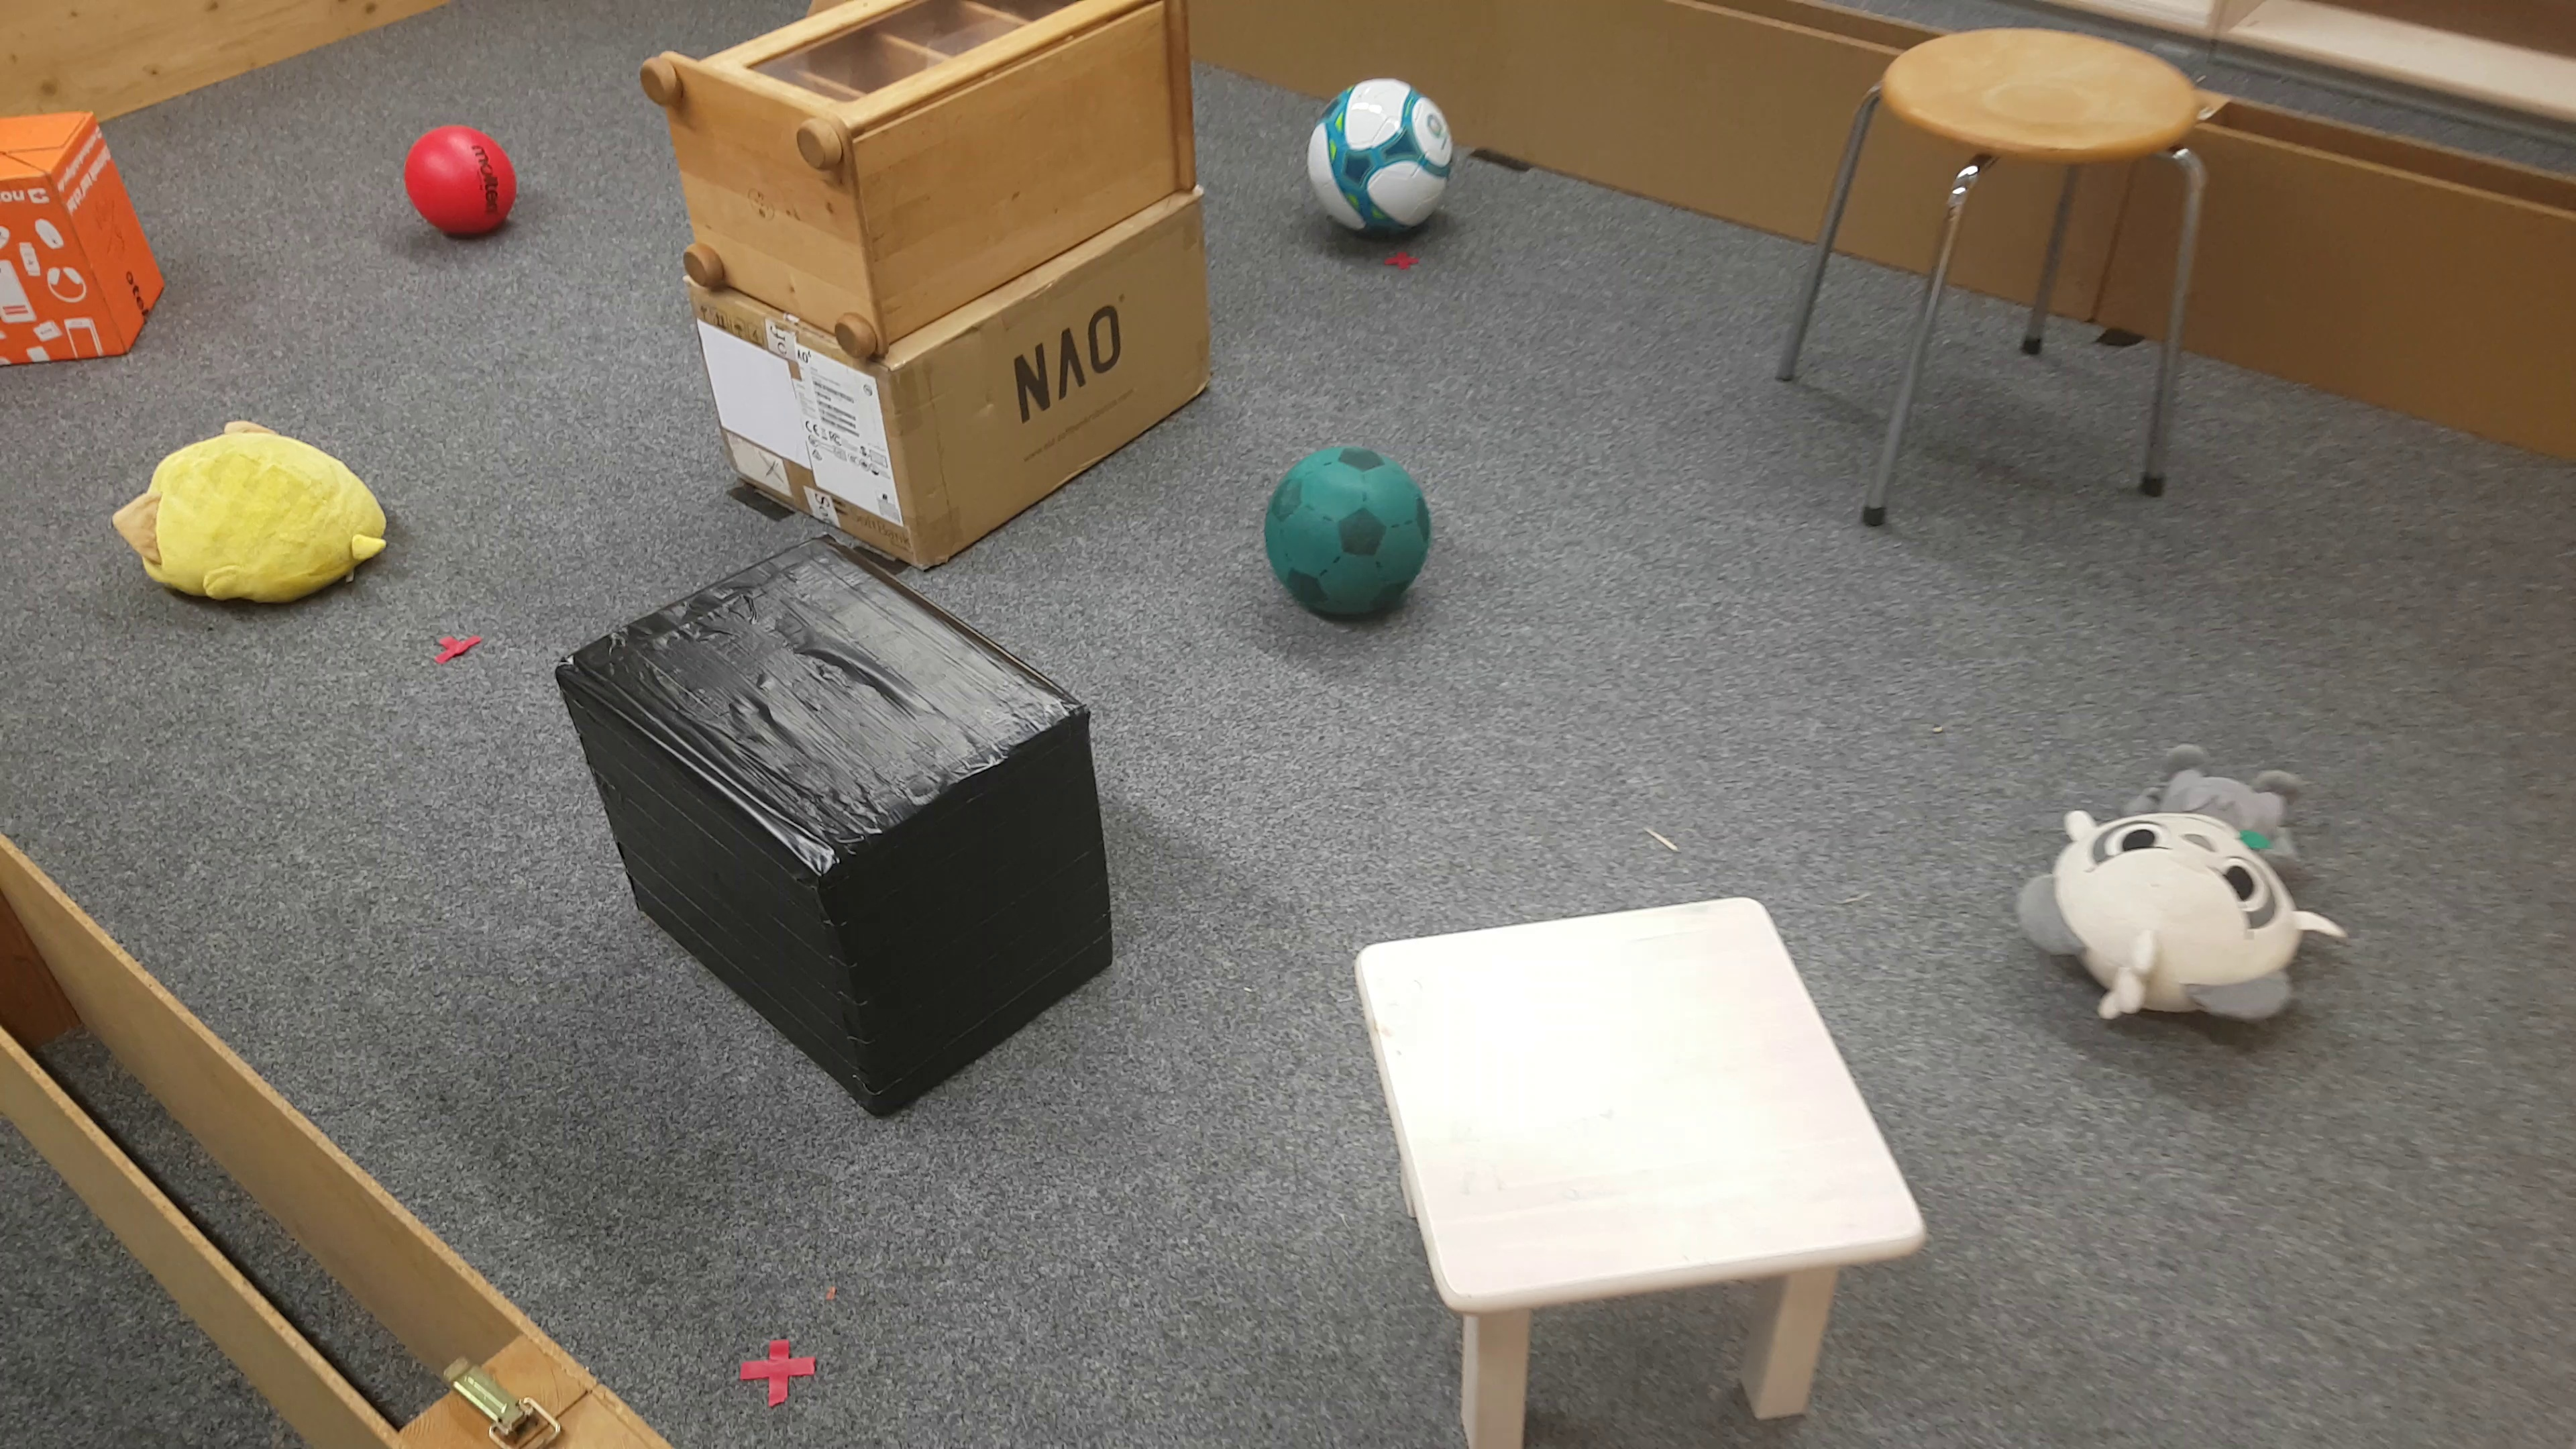grasp: (2028, 748, 2341, 1049), (119, 414, 387, 600)
kick: (1265, 444, 1440, 617), (1313, 65, 1458, 237), (410, 127, 520, 241)
push: (566, 541, 1125, 1118), (0, 111, 177, 377)
